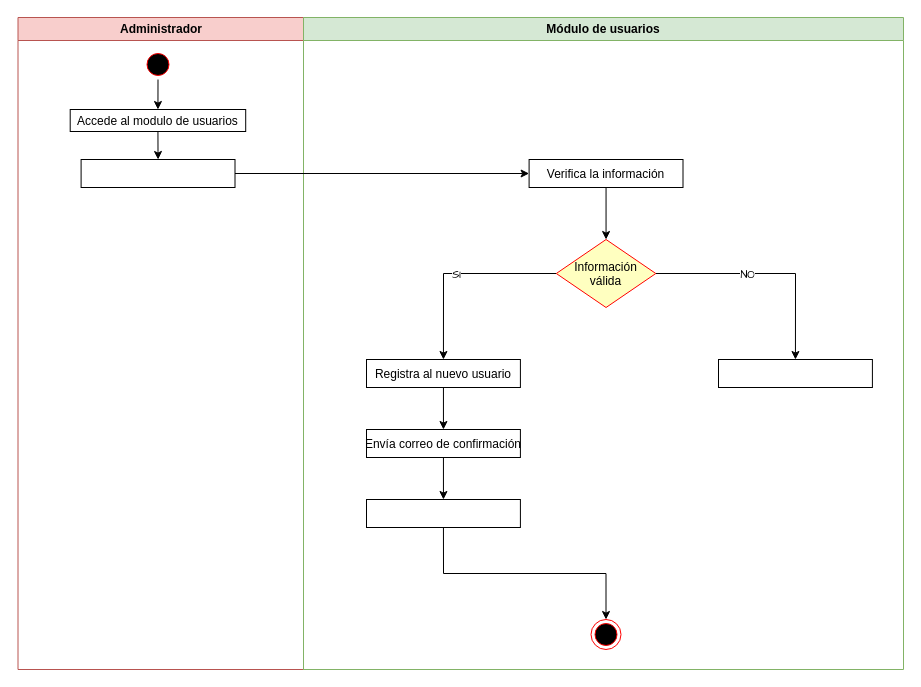
The diagram is 921 pixels wide and 687 high, and some of its shapes have lost their labels. Here are the shapes that lost their labels. From the top down, the box of each, then its label:
(80, 158, 235, 188): Proporciona información del nuevo usuario
(718, 358, 872, 388): Muestra el error en la validación
(366, 498, 520, 528): Muestra el mensaje de confirmación
